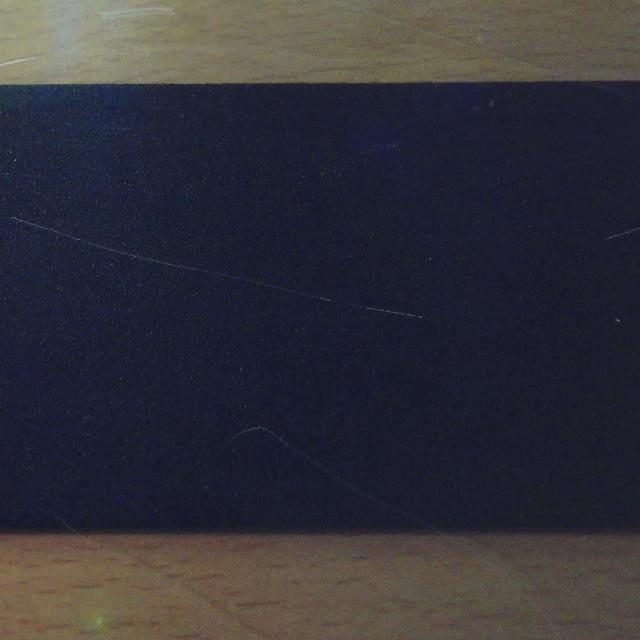defect: (12, 215, 424, 326), (225, 425, 439, 531), (606, 225, 640, 241)
